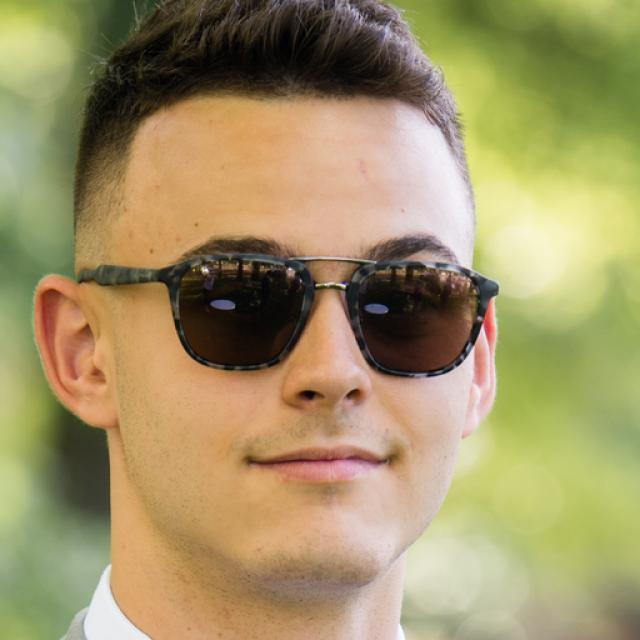content: (118, 70, 478, 580)
